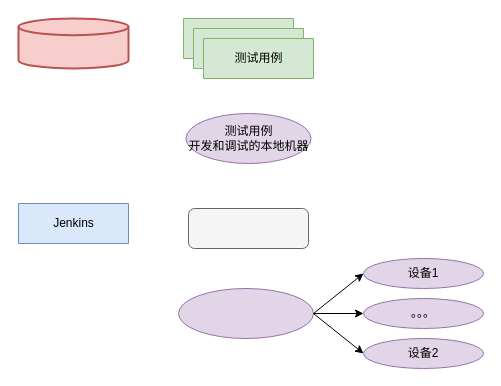
Some shapes in this 501 by 386 pixel diagram are drawn without their labels. The shapes that lost their labels are listed below. From the top down, each one's centre as x and y in pixels, then its label:
At pixel 73 43: "测试用例代码仓库".
At pixel 248 228: "被测系统（SUT）".
At pixel 246 313: "设备 Hub".
